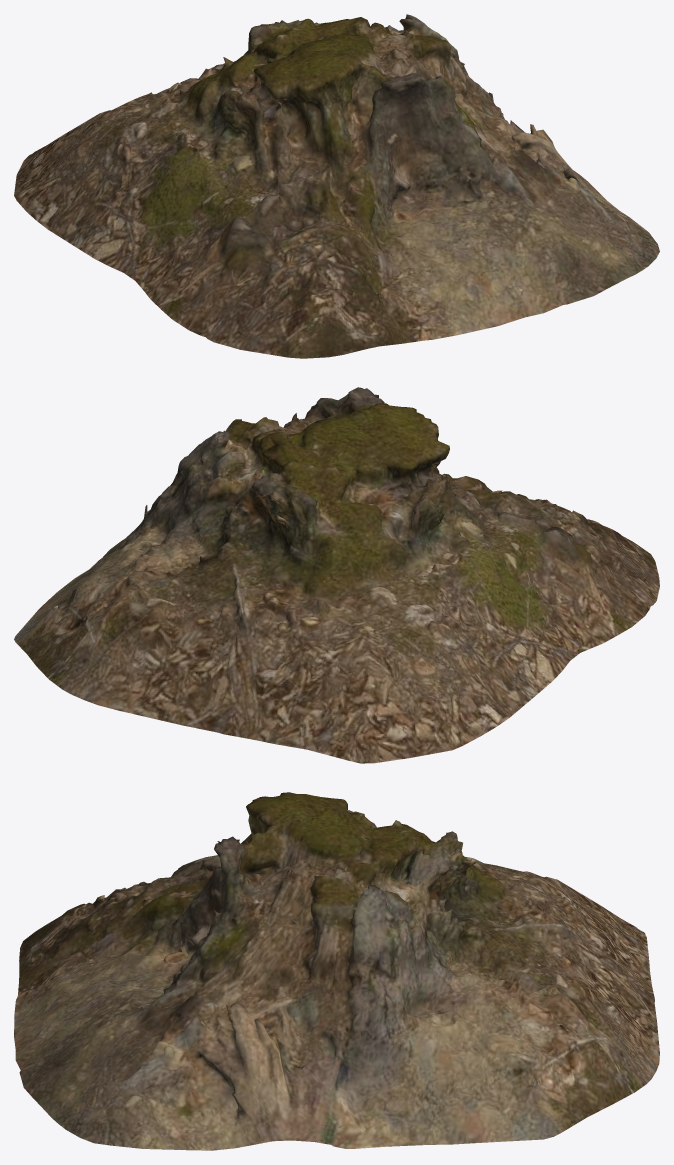
File: tree_stump_01.glb
The picture shows the model from 3 angles, top to bottom: view 1: azimuth 30°, elevation 25°; view 2: azimuth 150°, elevation 25°; view 3: azimuth 270°, elevation 25°; orthographic projection. The views are drawn at different scales.
Parts seen in each view (by area): view 1: tree_stump_01; view 2: tree_stump_01; view 3: tree_stump_01.
Part boxes in pixels (x1,y1,x2,y2): tree_stump_01: (14, 14, 659, 358); tree_stump_01: (14, 387, 659, 763); tree_stump_01: (14, 792, 659, 1150).
Size of the model in its own units: 1.43 by 0.5725 by 1.59.
Materials: 1 (1 with a texture image).
